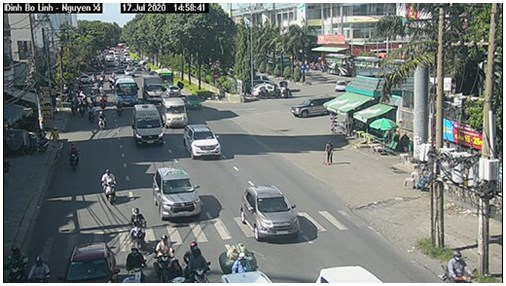di_bo: (321, 138, 336, 166)
xe_buyt: (113, 77, 140, 110)
xe_hoi: (236, 185, 302, 244), (152, 166, 203, 224), (182, 123, 222, 161), (290, 97, 326, 118)
xe_khach: (131, 103, 165, 148), (161, 96, 188, 129)
xe_may: (180, 237, 212, 283), (152, 230, 175, 282), (442, 249, 476, 283), (126, 206, 148, 251), (125, 245, 151, 282), (27, 252, 54, 283), (6, 244, 26, 283), (100, 166, 119, 205), (67, 140, 81, 171), (97, 111, 108, 132), (86, 104, 95, 125), (98, 94, 108, 108), (77, 100, 85, 117)
xe_tai: (140, 74, 163, 104)
